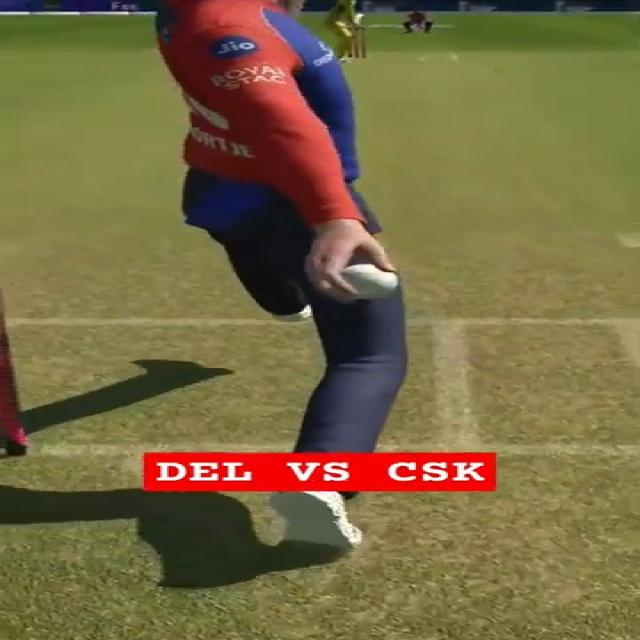ball: (341, 263, 400, 300)
